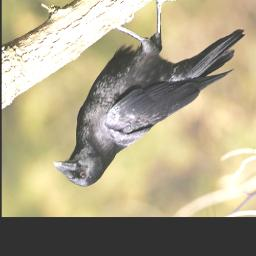Crow: (48, 0, 245, 189)
